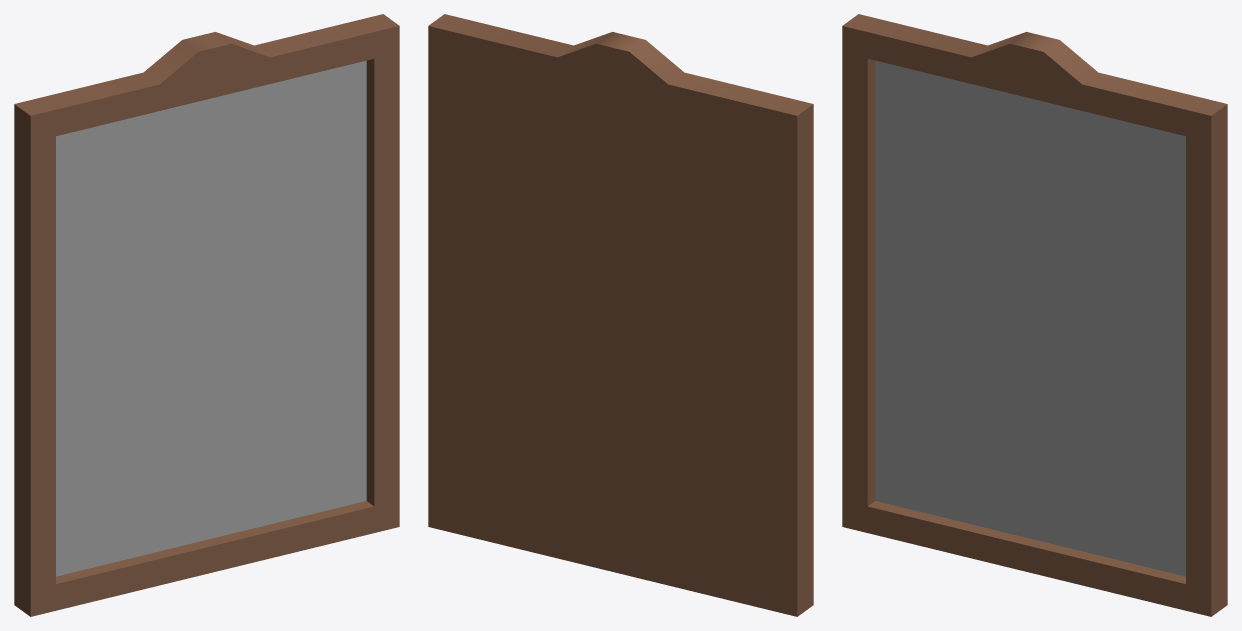
File: frame.fbx
The picture shows the model from 3 angles, left to right: view 1: azimuth 30°, elevation 25°; view 2: azimuth 150°, elevation 25°; view 3: azimuth 330°, elevation 25°; orthographic projection.
Parts seen in each view (by area): view 1: painting; view 2: painting; view 3: painting.
Boxes of the visible parts, x1,y1,x2,y2 form: painting: [14, 14, 399, 616]; painting: [428, 14, 813, 616]; painting: [842, 14, 1227, 616].
Bounding box in the file's own units: 13.09 × 17.76 × 1.
